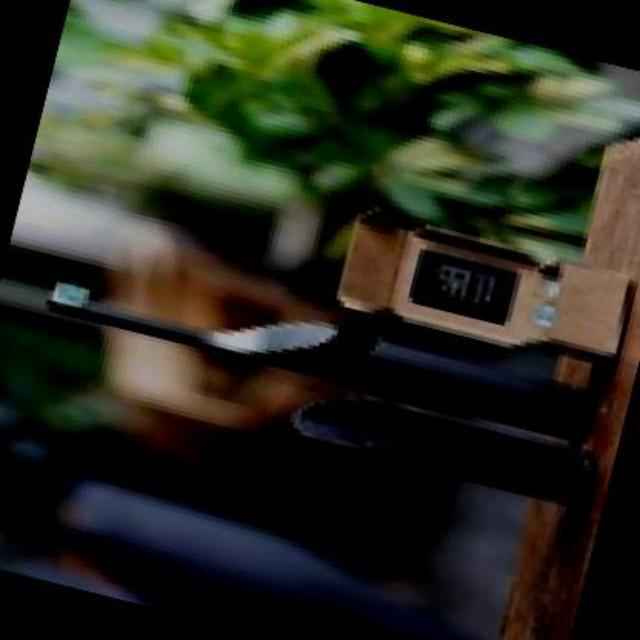toothbrush: (22, 236, 618, 459)
